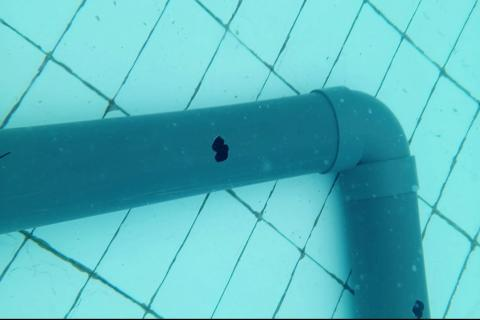kebocoran: (211, 135, 229, 164), (411, 298, 425, 320)
keretakan: (0, 150, 12, 160)
